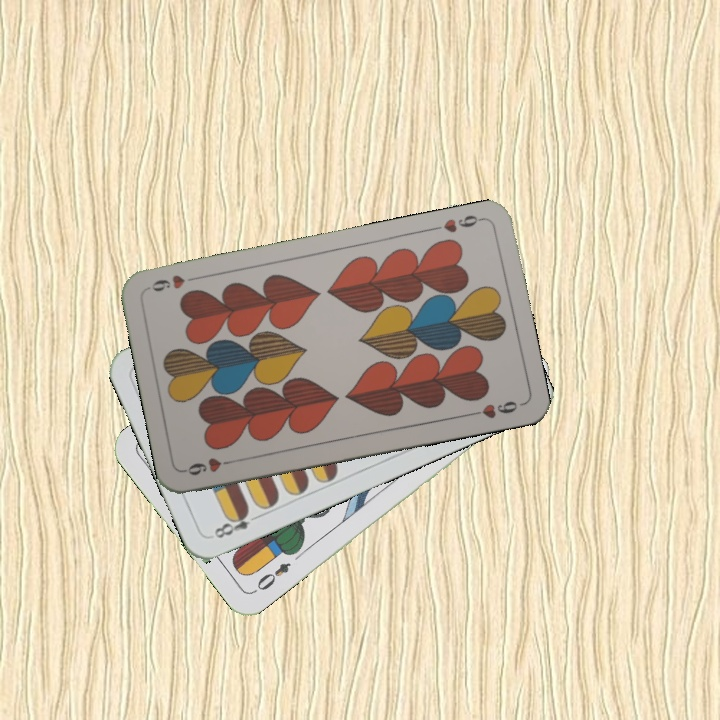E8: (210, 505, 263, 541)
EO: (249, 558, 294, 596)
H9: (428, 211, 487, 236), (180, 454, 239, 478)
